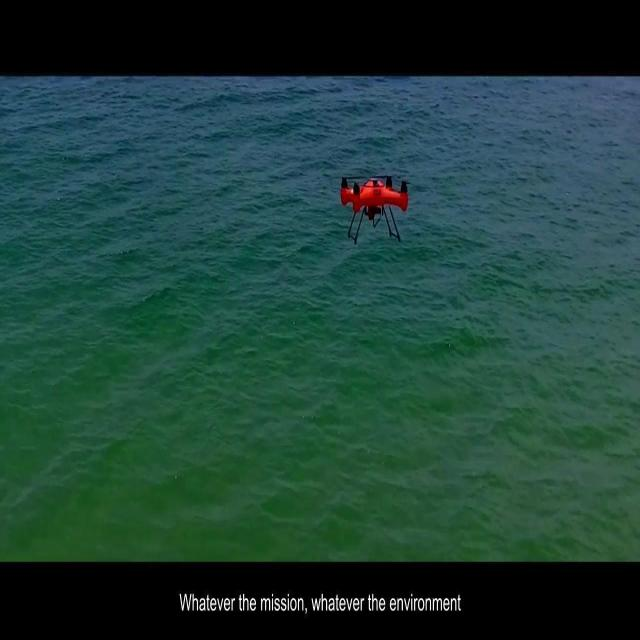drone: (336, 169, 409, 251)
